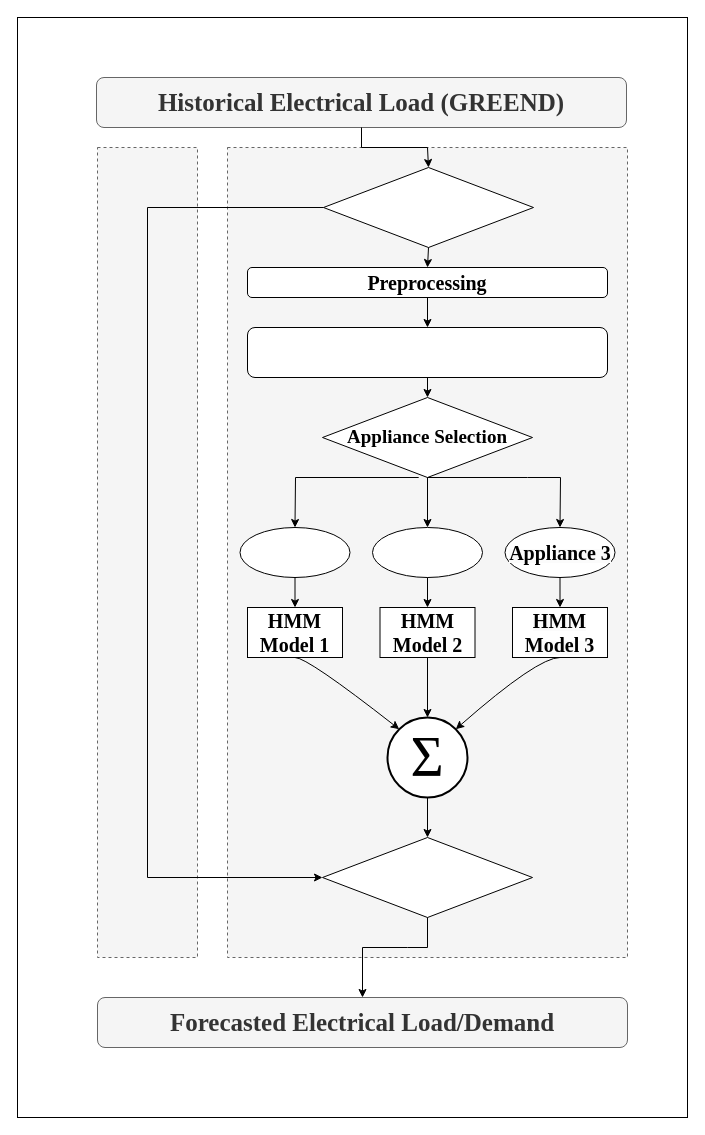
Image size: 705x1135. Some labels were removed from this diagram. The shapes that lost their labels are listed below. From the top down, each one's centre as x and y in pixels, then its label:
point 428,207: Feature Extraction
point 427,352: Sorting Data for each Appliance in a Household
point 294,552: Appliance 1
point 427,552: Appliance 2
point 427,877: Results Comparison
